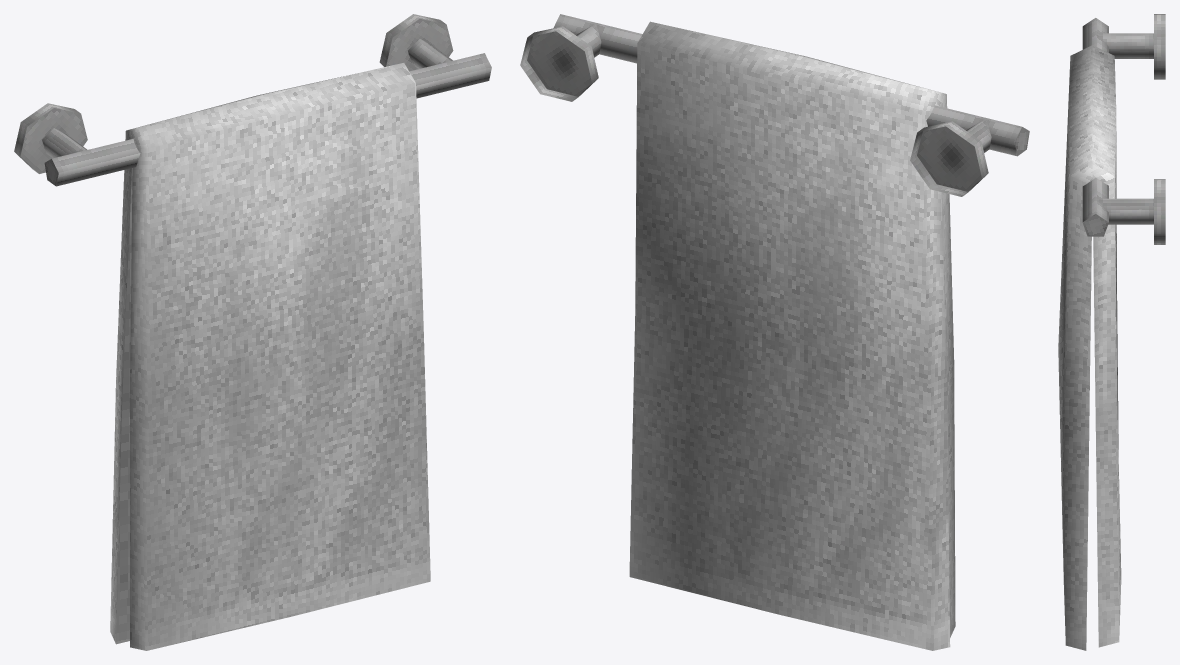
File: TowelRack.glb
The picture shows the model from 3 angles, left to right: view 1: azimuth 30°, elevation 25°; view 2: azimuth 150°, elevation 25°; view 3: azimuth 270°, elevation 25°; orthographic projection. The views are drawn at different scales.
Parts seen in each view (by area): view 1: towel, towel rack; view 2: towel, towel rack; view 3: towel, towel rack.
Boxes of the visible parts, x1,y1,x2,y2 form: towel: (110,63,430,650); towel rack: (14,14,491,186); towel: (629,21,955,650); towel rack: (520,14,1029,196); towel: (1058,45,1121,650); towel rack: (1082,14,1165,244).
Bounding box in the file's own units: 0.5 × 0.5765 × 0.1158.
Materials: 2 (2 with a texture image).
